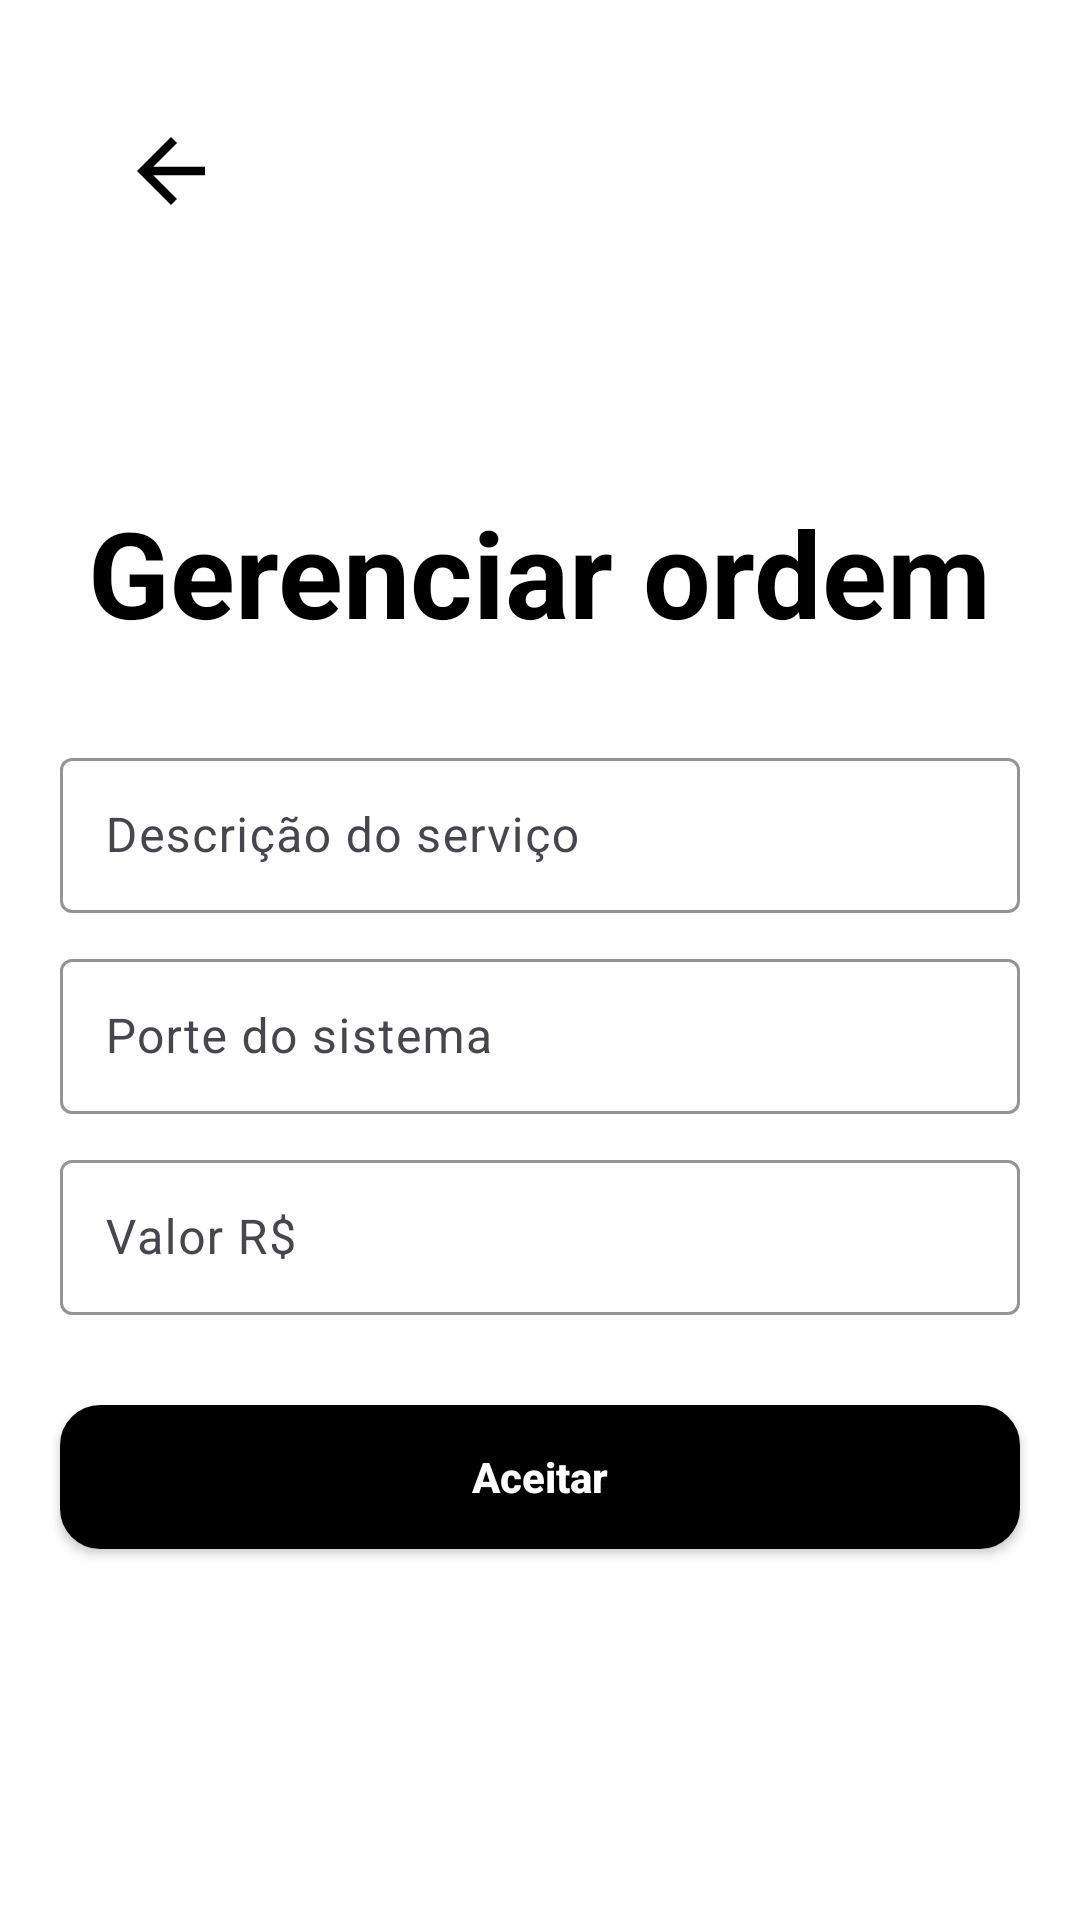

Icon bounding boxes for this 1080px×1920px phone screenshot, format [left=x1, top=y1, right=x2, bottom=y2]:
voltar nav: [left=137, top=137, right=205, bottom=205]
